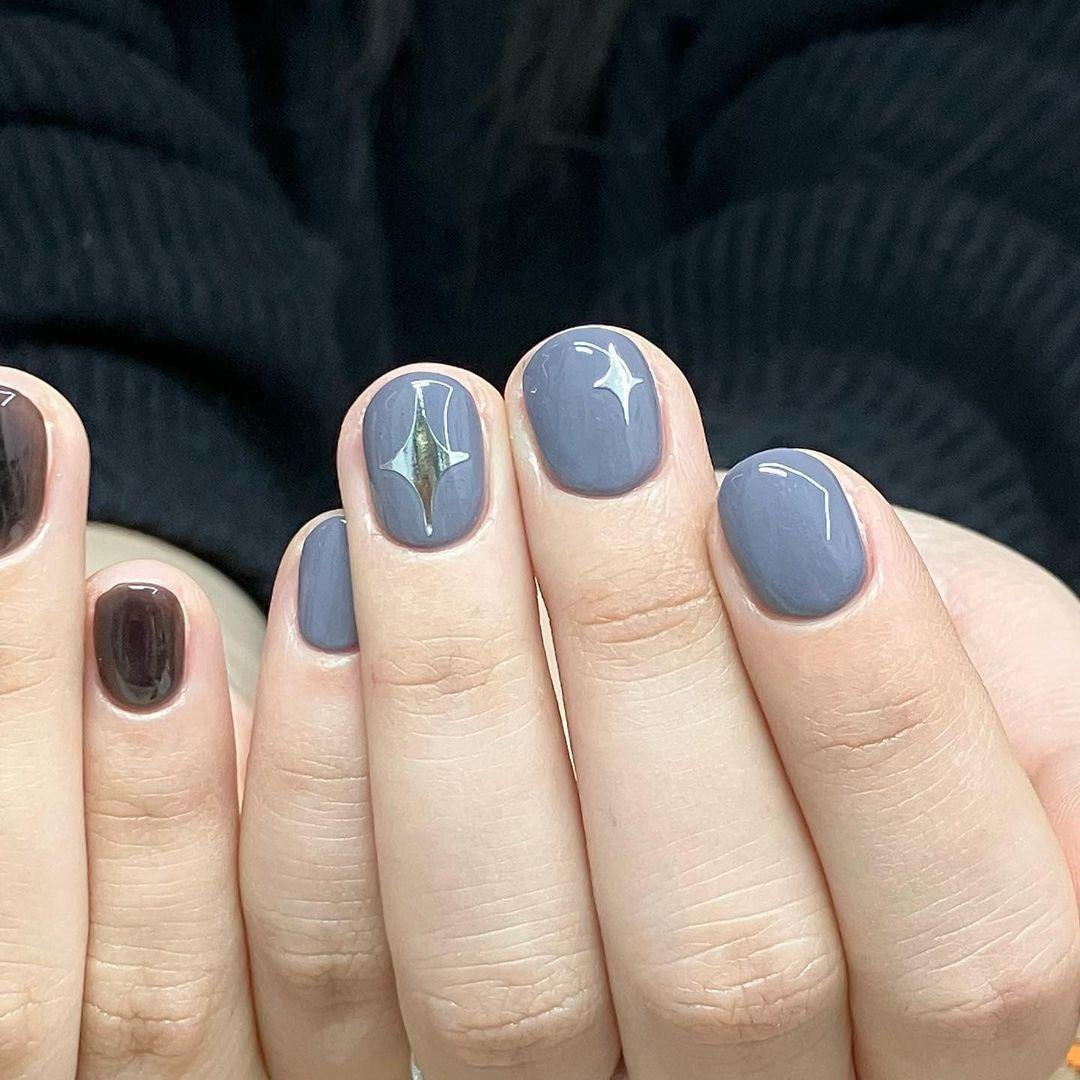nail: (715, 445, 870, 618), (519, 323, 665, 497), (90, 579, 188, 714), (294, 510, 359, 653)
